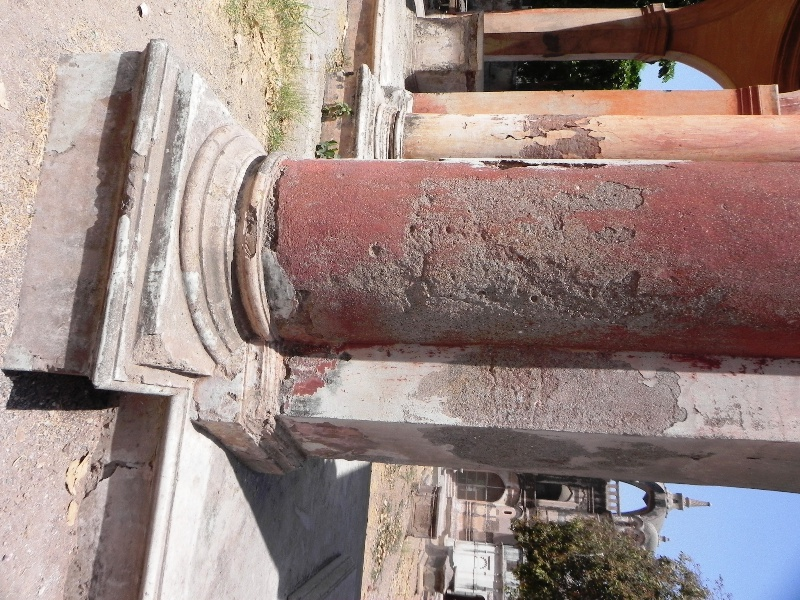Spalling: (406, 344, 696, 434), (266, 172, 306, 325), (510, 115, 608, 157), (241, 203, 257, 257)
